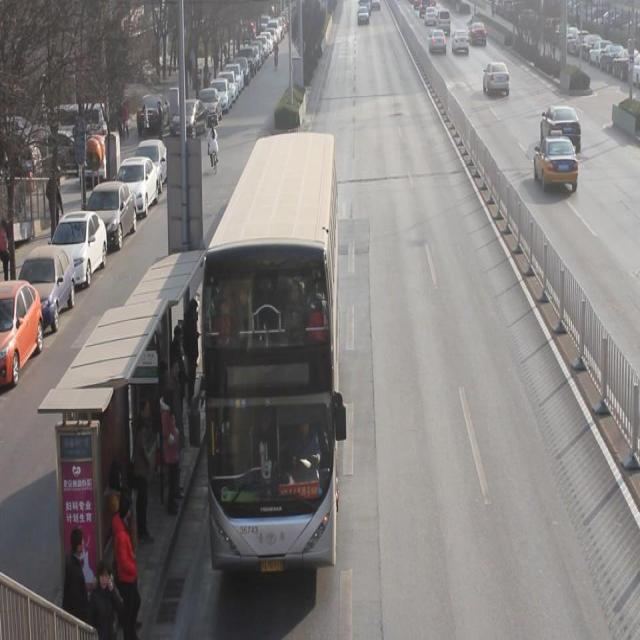car: (534, 128, 579, 193), (540, 104, 582, 154), (482, 60, 510, 96), (468, 19, 486, 47), (451, 28, 469, 55), (429, 28, 446, 54), (424, 1, 436, 25), (357, 1, 369, 25)
truck: (435, 7, 451, 34)
van: (200, 131, 338, 569)
